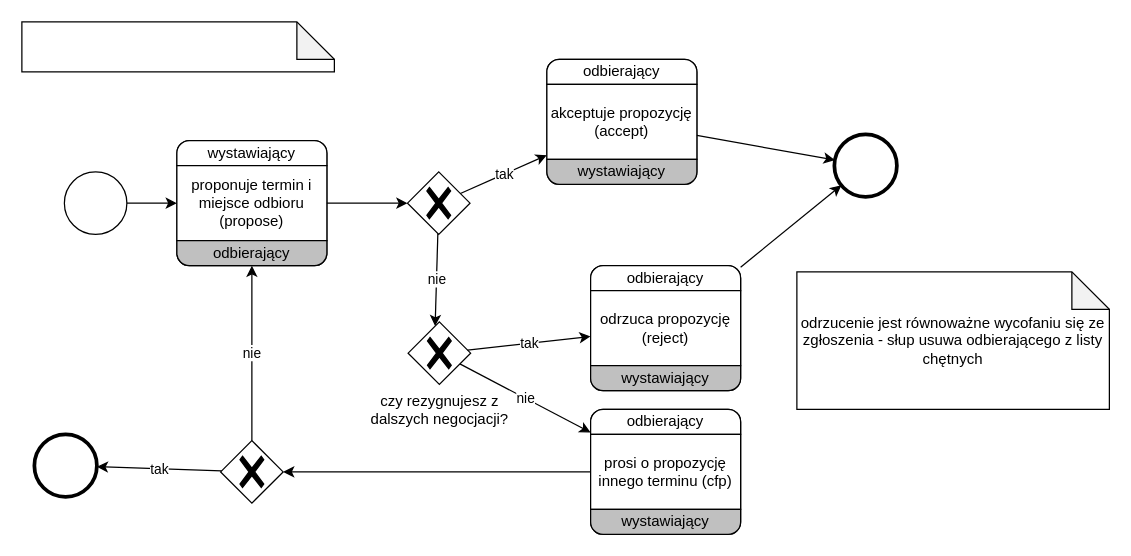
Image size: 1131x556. Some labels were removed from this diagram. The shapes that lost their labels are listed below. From the top down, each one's centre as x and y in pixels, then its label:
point 177,46: ustalenie szczegółów odbioru
point 438,202: czy propozycja zaakceptowana?
point 251,471: czy wystawiający rezygnuje z odbierającego?
